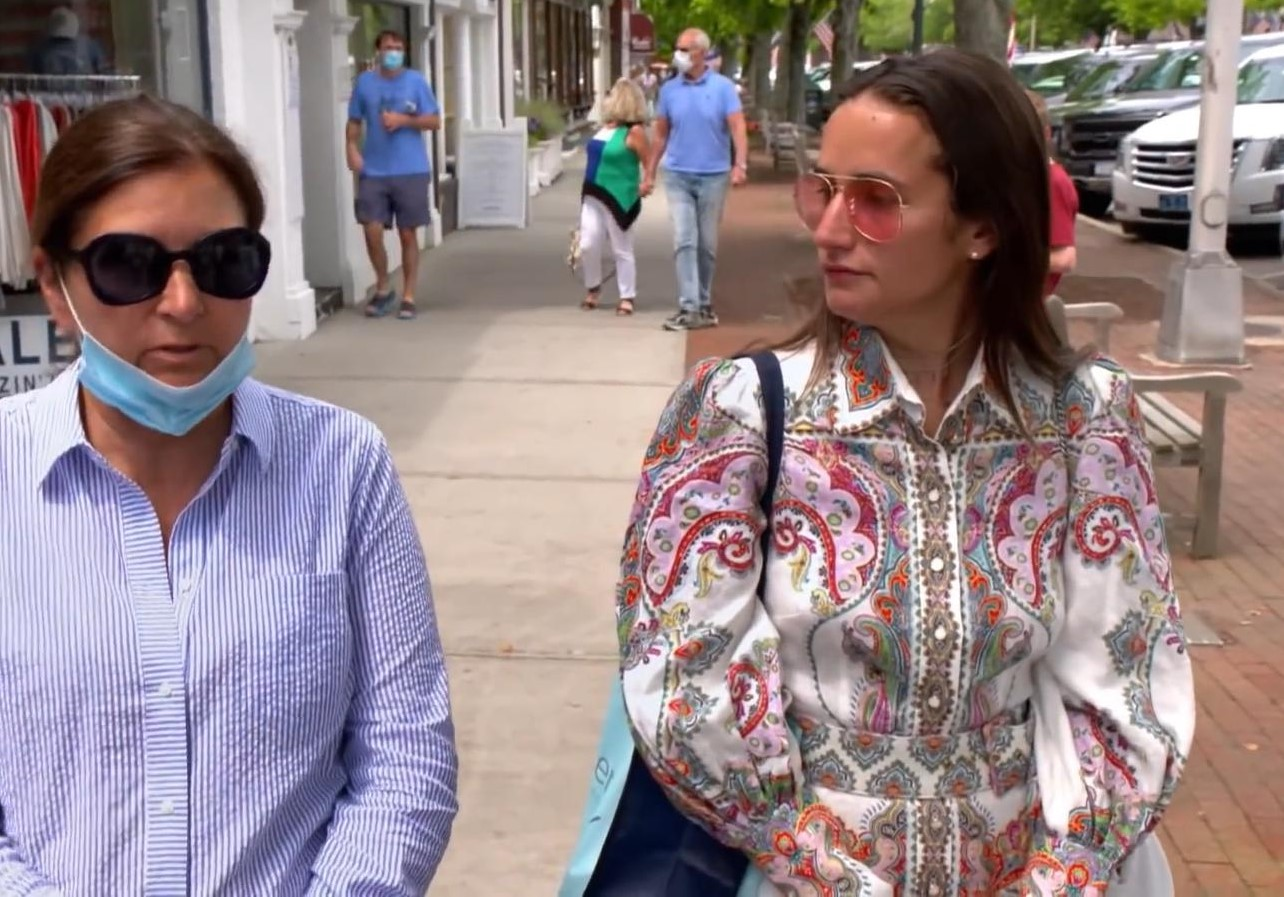with_incorrect_mask: (90, 214, 248, 386)
with_mask: (604, 92, 622, 116), (382, 45, 401, 66), (678, 46, 695, 68)
without_mask: (825, 166, 923, 312)
